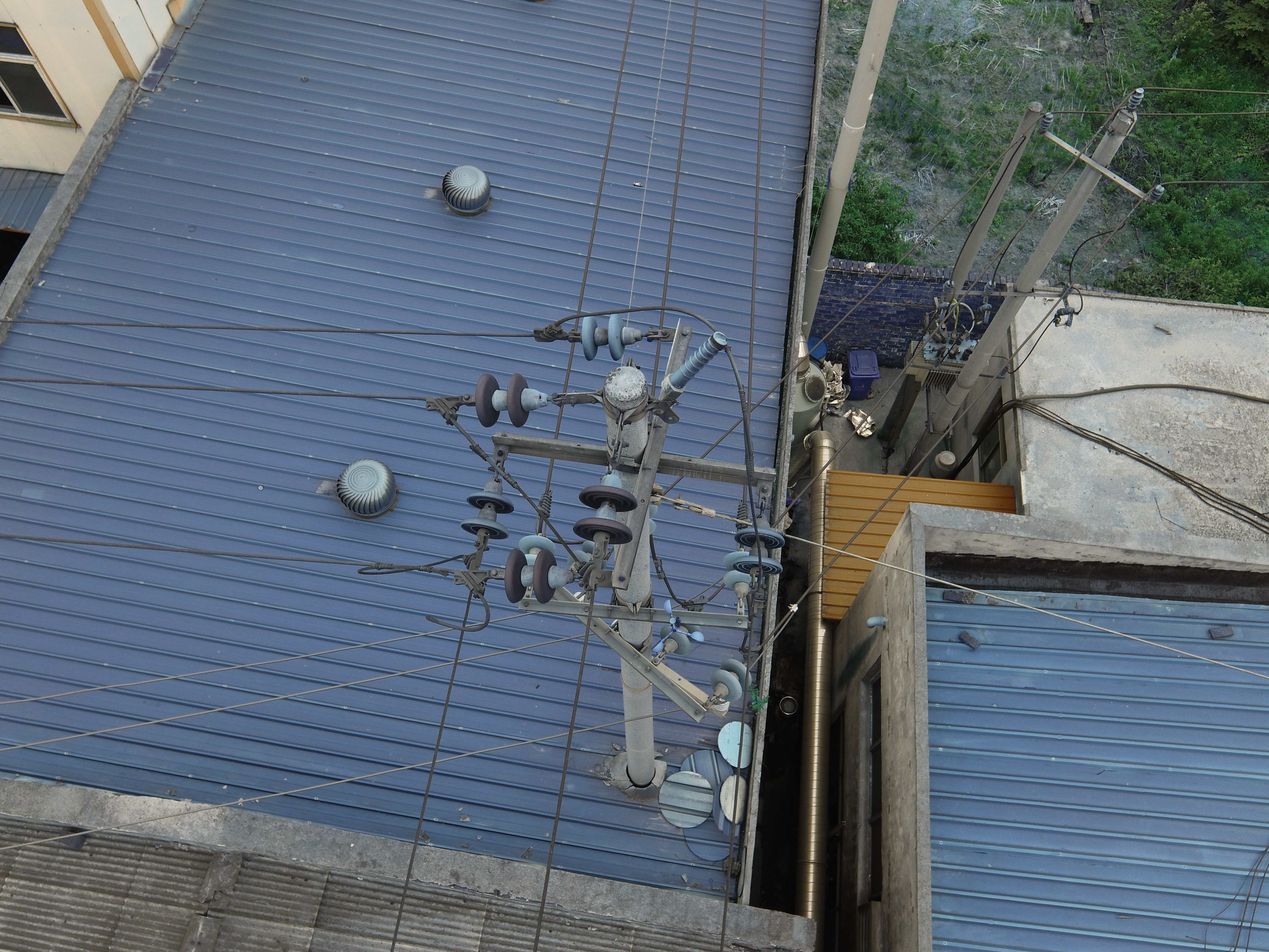severe_soiling_no_discharge_whole: (660, 324, 732, 404), (454, 474, 518, 542), (729, 508, 786, 581), (577, 308, 644, 367)
